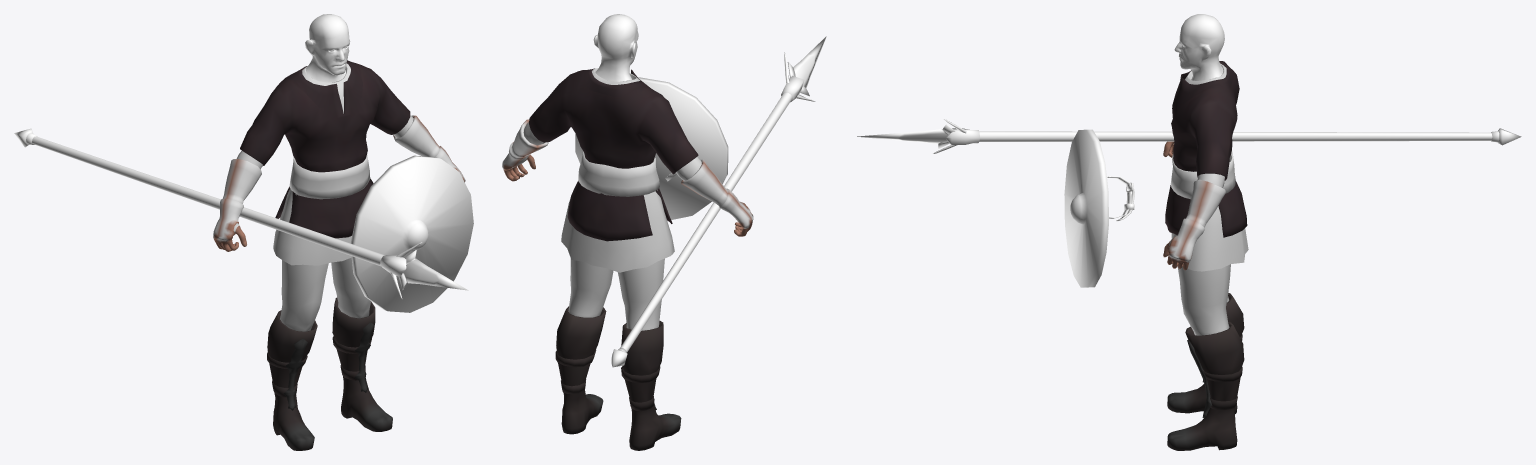
File: LightArmor.fbx
The picture shows the model from 3 angles, left to right: view 1: azimuth 30°, elevation 25°; view 2: azimuth 150°, elevation 25°; view 3: azimuth 270°, elevation 25°; orthographic projection.
Visible parts, largest first — view 1: Head.002; view 2: Head.002; view 3: Head.002.
Boxes of the visible parts, box(x1,y1,x2,y2) form: Head.002: box(14, 14, 473, 450); Head.002: box(502, 14, 826, 450); Head.002: box(857, 14, 1521, 450).
Bounding box in the file's own units: 130 × 182 × 266.
